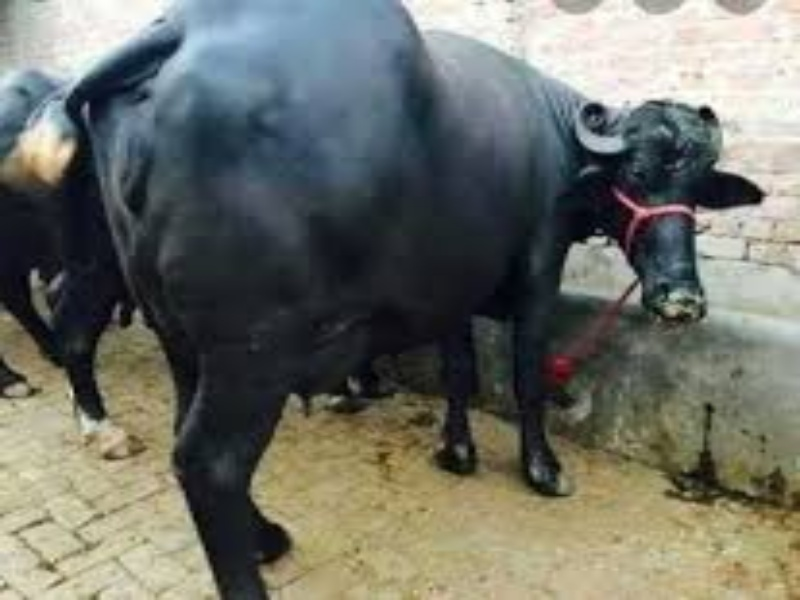buffalo: (79, 6, 766, 572)
